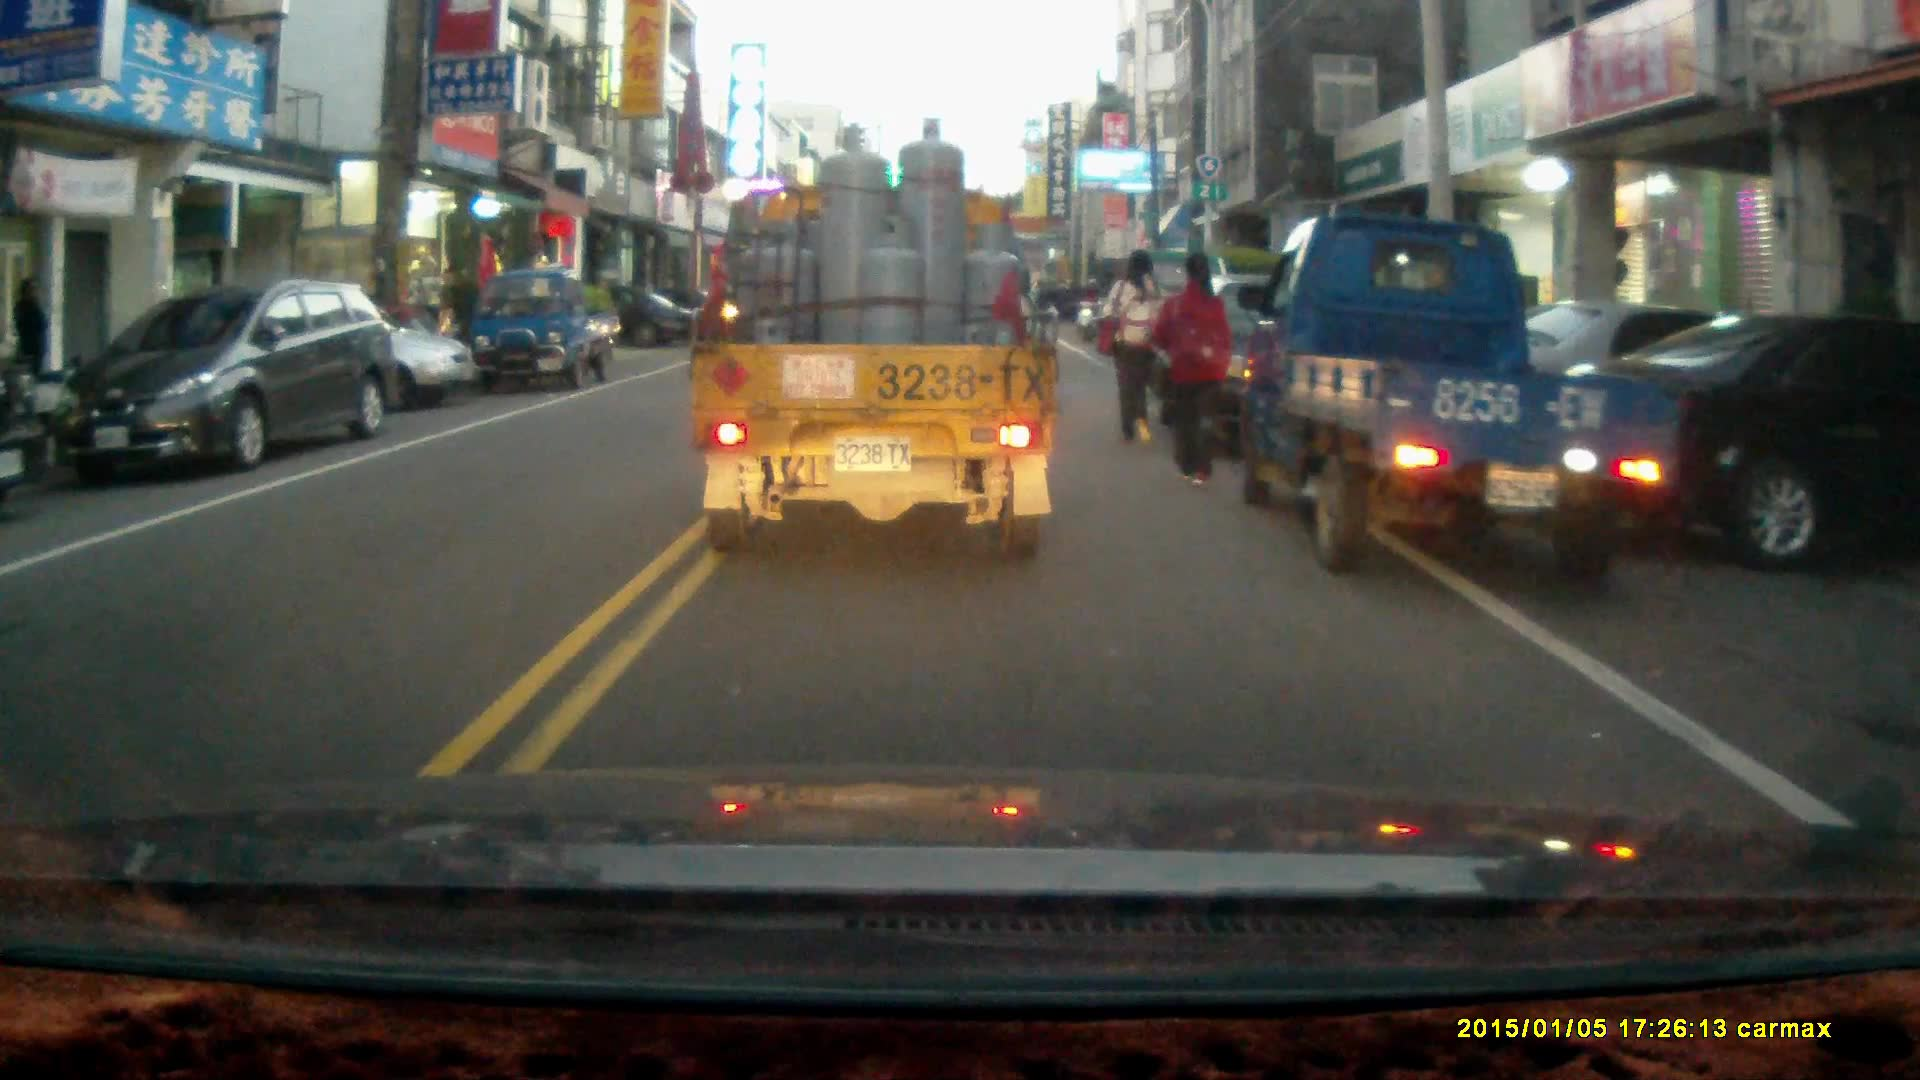pedestrian: (1146, 248, 1230, 483), (1102, 248, 1169, 448), (10, 276, 49, 404)
rider: (1071, 274, 1102, 339)
vehicle: (1235, 215, 1678, 594), (689, 120, 1061, 564), (60, 281, 400, 479), (207, 293, 478, 419), (466, 273, 613, 400), (1, 348, 54, 506)
